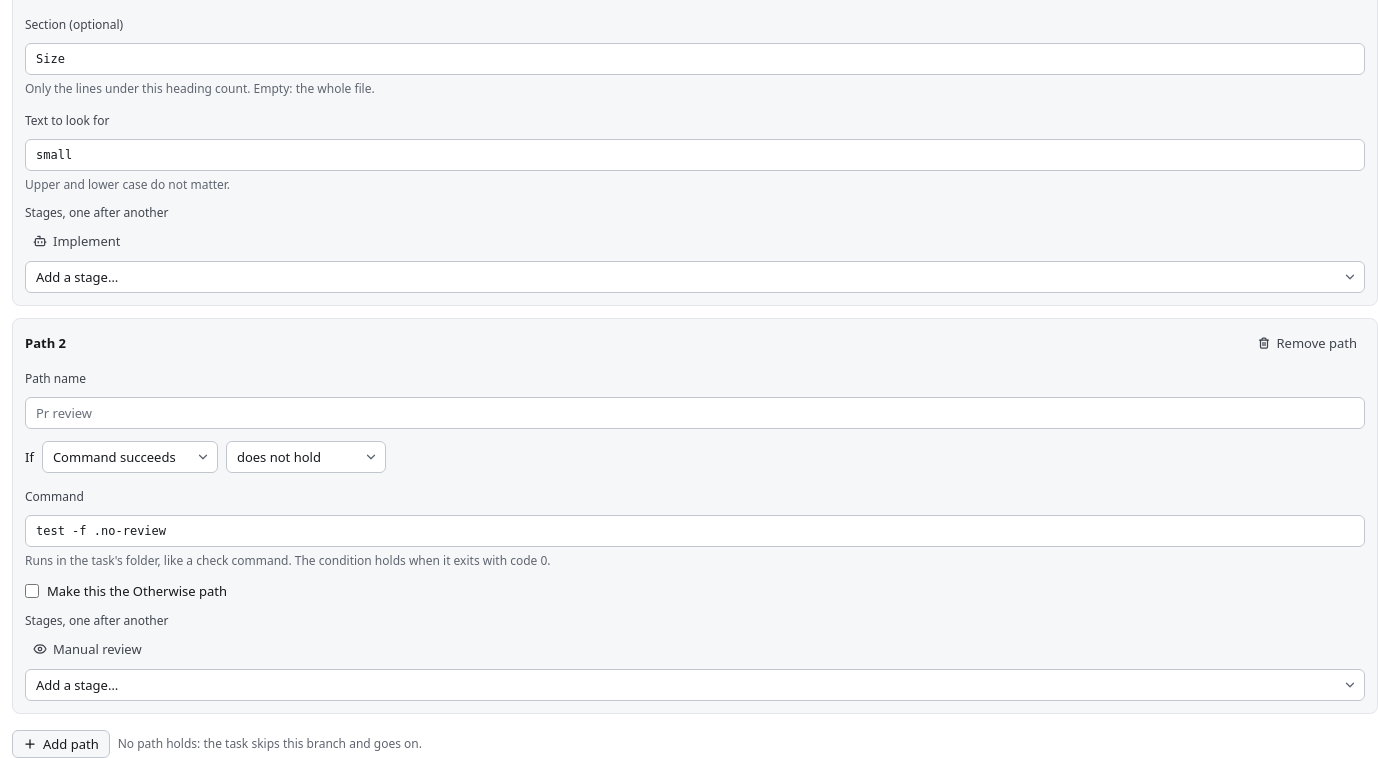
Test case: BranchDetails › adds a stage of the catalog to a path, and not a context or release stage
(page scrolled)
Expected: the option does not show "Implement"
Step 1. Select "Manual testing" in the dropdown named "Add a stage to Path 2" → (695, 685), box [25, 669, 1365, 701]
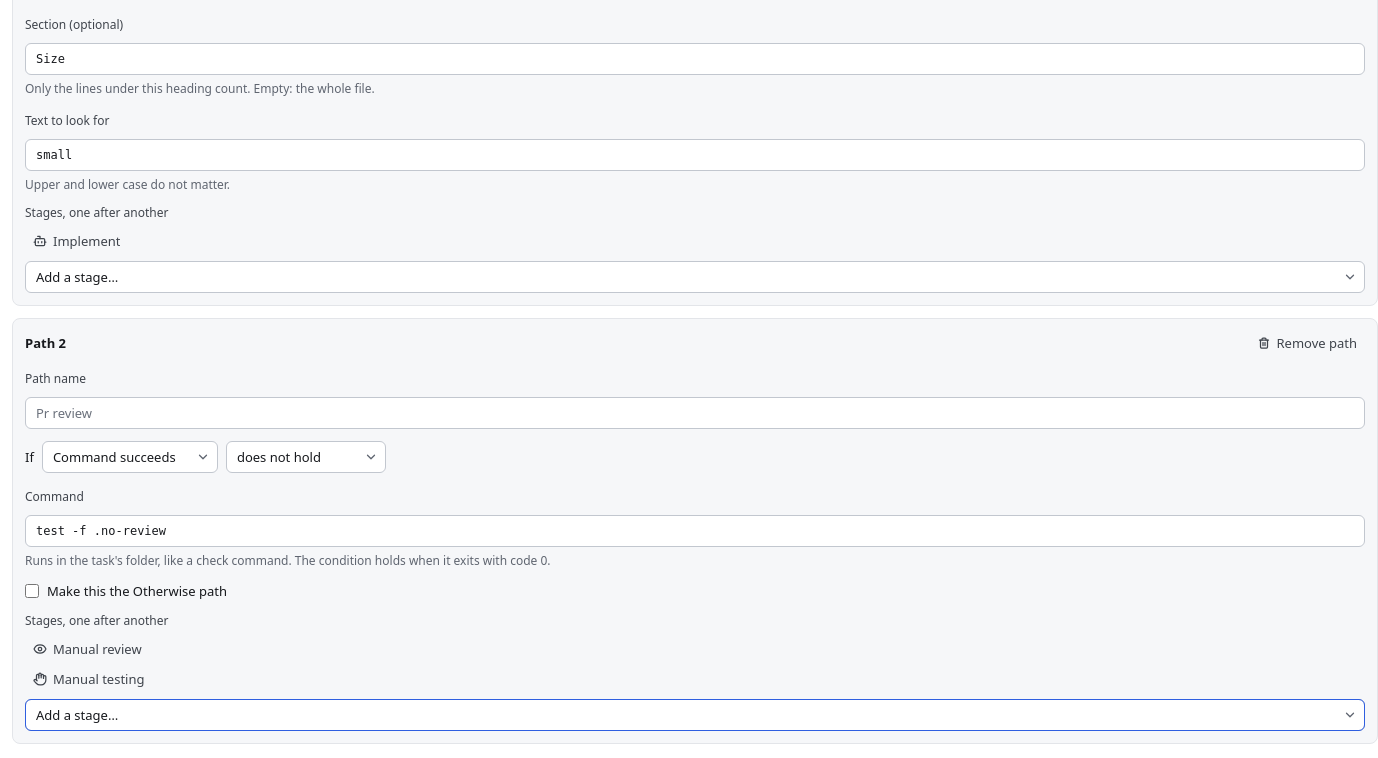
Result: the button "Manual testing" is shown at [25, 665, 1365, 693]
